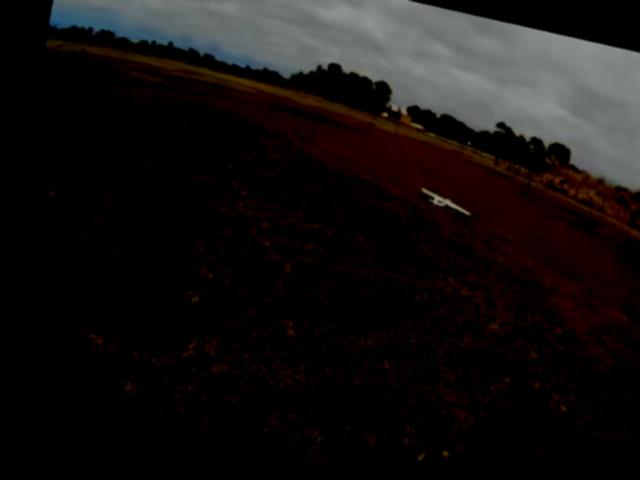uav: (404, 176, 479, 236)
